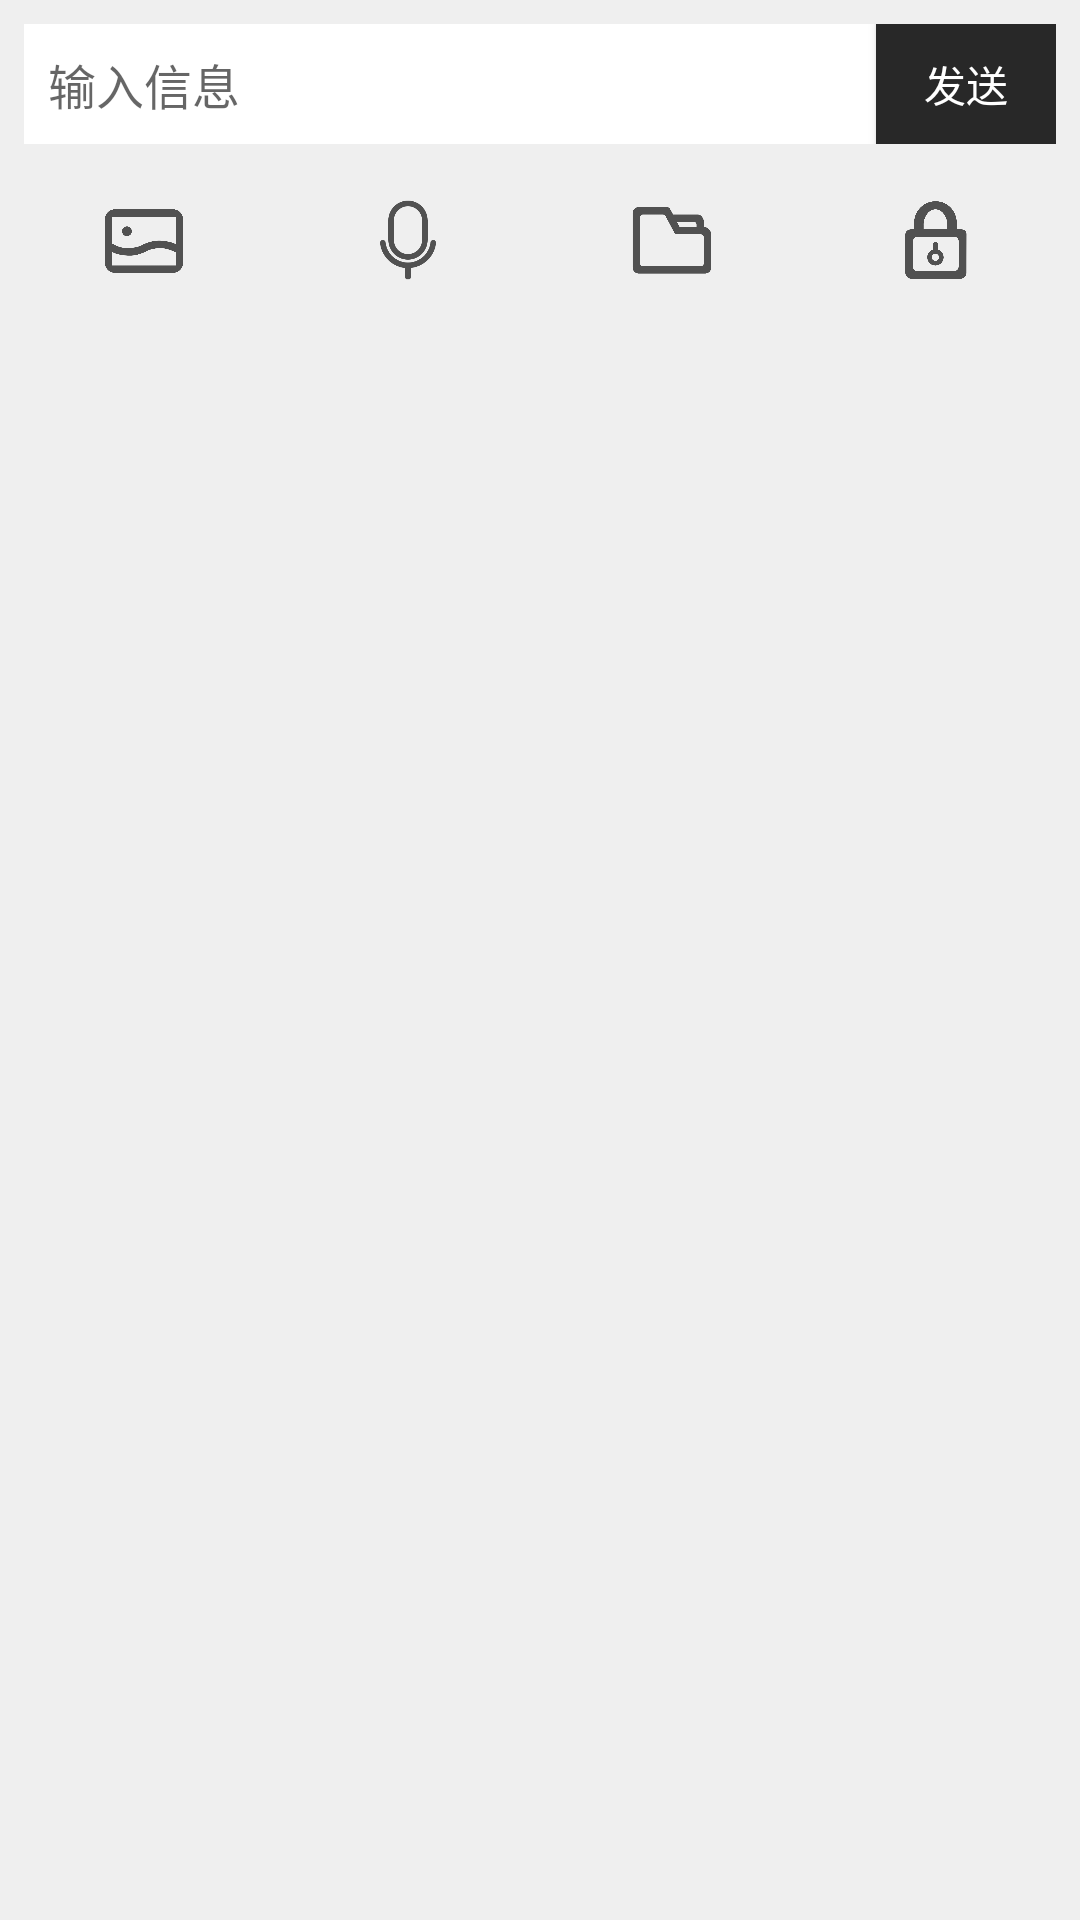

Icon bounding boxes for this 1080 x 1920 phone screenshot, format (x1, y1, x2, y2):
audio: (380, 201, 436, 279)
file: (633, 207, 711, 274)
lock: (905, 201, 967, 279)
